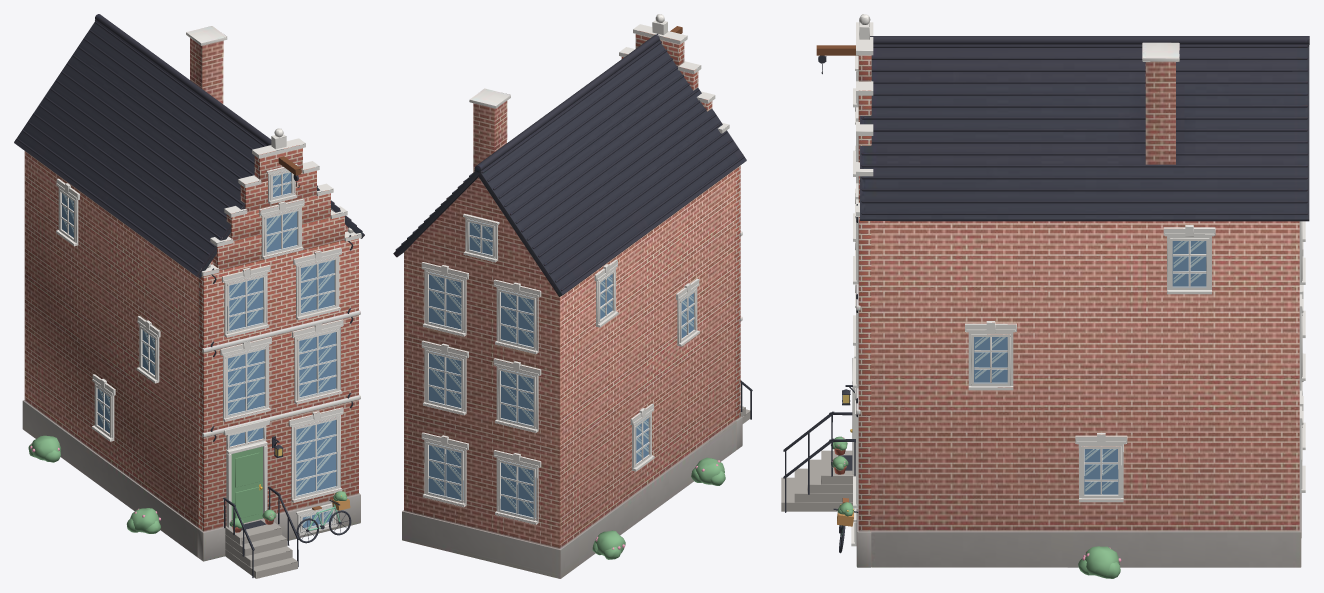
The model's file is house.glb.
3 renders of one model, left to right at view 1: azimuth 30°, elevation 25°; view 2: azimuth 150°, elevation 25°; view 3: azimuth 270°, elevation 25°, orthographic. The views are drawn at different scales.
Parts seen in each view (by area): view 1: dutch-canal-house_body, dutch-canal-house_details, dutch-canal-house_facade, dutch-canal-house_glints, dutch-canal-house_door_l, dutch-canal-house_plants, dutch-canal-house_frame, dutch-canal-house_details_flat; view 2: dutch-canal-house_body, dutch-canal-house_details, dutch-canal-house_glints, dutch-canal-house_facade, dutch-canal-house_plants; view 3: dutch-canal-house_body, dutch-canal-house_details, dutch-canal-house_facade, dutch-canal-house_plants, dutch-canal-house_glints.
Part boxes in pixels (bbox=[...]): dutch-canal-house_body: bbox=[14, 14, 364, 557]; dutch-canal-house_details: bbox=[56, 128, 361, 578]; dutch-canal-house_facade: bbox=[197, 145, 360, 561]; dutch-canal-house_glints: bbox=[63, 172, 332, 525]; dutch-canal-house_door_l: bbox=[231, 446, 262, 522]; dutch-canal-house_plants: bbox=[28, 435, 347, 533]; dutch-canal-house_frame: bbox=[226, 441, 267, 527]; dutch-canal-house_details_flat: bbox=[296, 499, 351, 543]; dutch-canal-house_body: bbox=[393, 33, 746, 578]; dutch-canal-house_details: bbox=[421, 14, 752, 524]; dutch-canal-house_glints: bbox=[431, 222, 693, 514]; dutch-canal-house_facade: bbox=[621, 30, 742, 449]; dutch-canal-house_plants: bbox=[592, 457, 725, 559]; dutch-canal-house_body: bbox=[860, 36, 1309, 567]; dutch-canal-house_details: bbox=[781, 14, 1305, 546]; dutch-canal-house_facade: bbox=[856, 55, 871, 567]; dutch-canal-house_plants: bbox=[831, 436, 1121, 578]; dutch-canal-house_glints: bbox=[975, 241, 1204, 491].
Bounding box in the file's own units: 6.83 × 12.65 × 11.97.
Materials: 20 (2 with a texture image).
